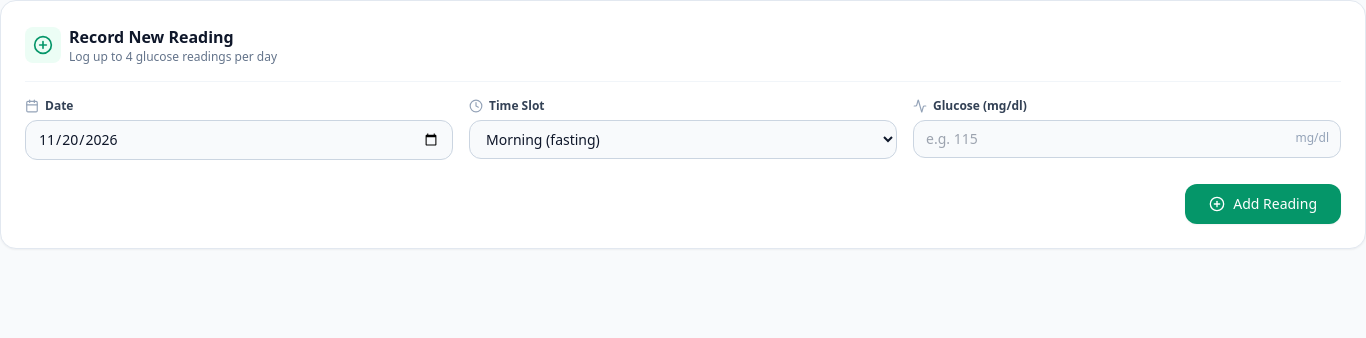
Scenario: ReadingForm Component - Validation Rules & Submission › 2. Value must be a whole number between 40 and 600: displays "Value must be between 40 and 600 mg/dl."
Test value below 40
Type "30" into the number field with test id "reading-value-input". click: point(1127, 139)
box: [913,120,1341,158]
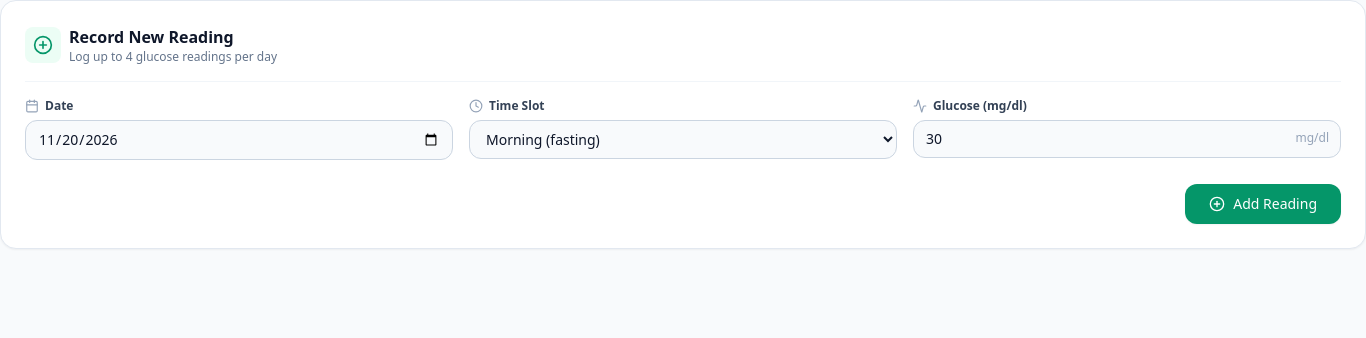
Click the button with test id "submit-reading-button". click: point(1263, 204)
box: [1185,184,1341,224]
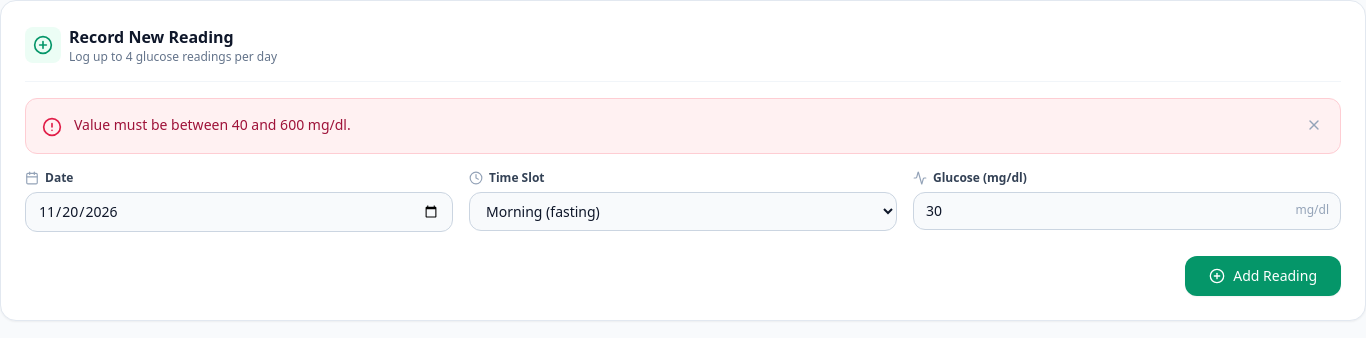
Check: the text "Value must be between 40 and 600 mg/dl." is shown, box [74,115,351,135]
Test value above 600
Replace the text in the number field with test id "reading-value-input" with "601". click: point(1127, 211)
box: [913,192,1341,230]
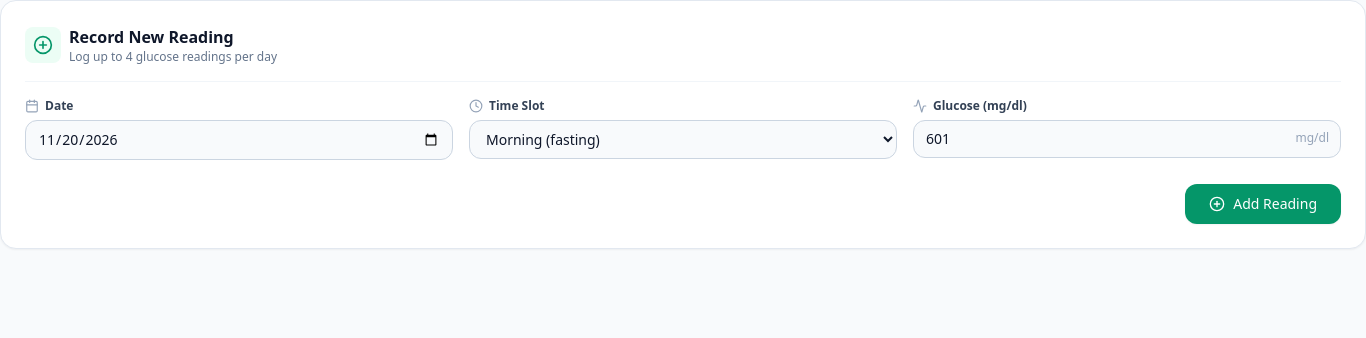
Click the button with test id "submit-reading-button". click: point(1263, 204)
box: [1185,184,1341,224]
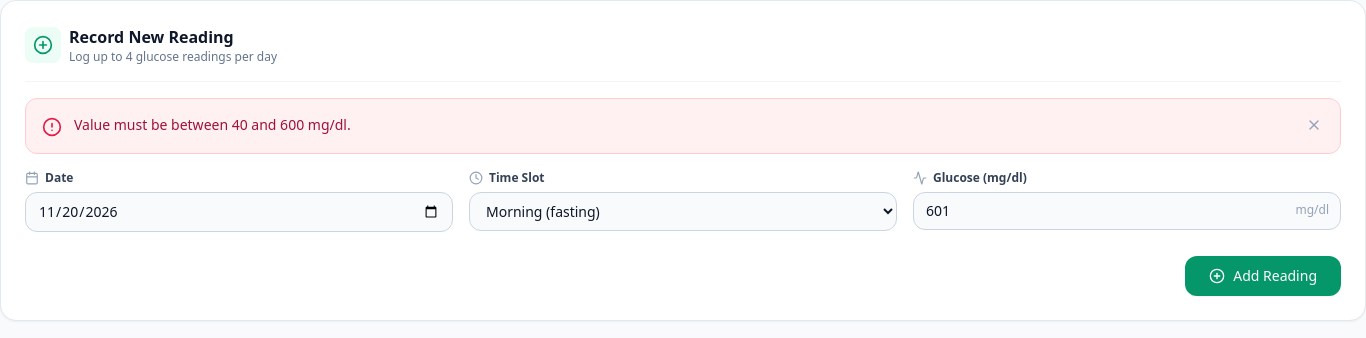
Check: the text "Value must be between 40 and 600 mg/dl." is shown, box [74,115,351,135]
Test decimal value (not a whole number)
Replace the text in the number field with test id "reading-value-input" with "115.5". click: point(1127, 211)
box: [913,192,1341,230]
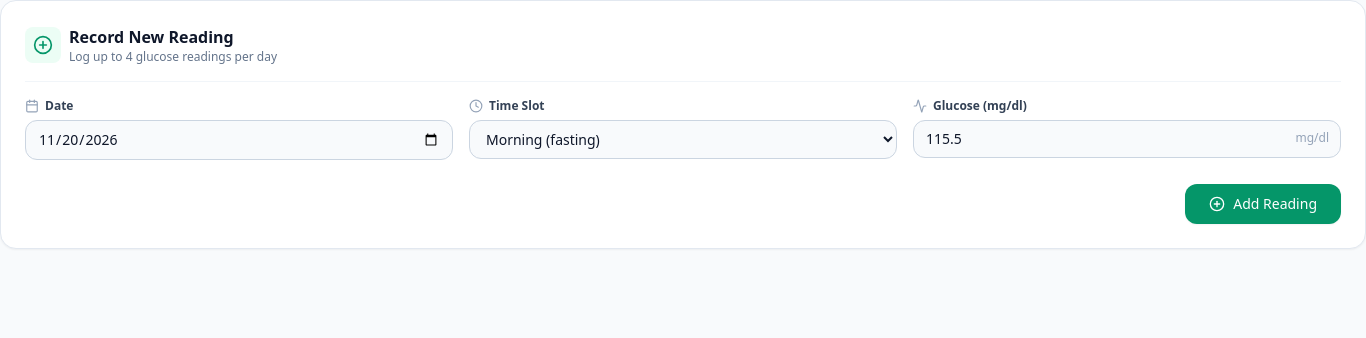
Click the button with test id "submit-reading-button". click: point(1263, 204)
box: [1185,184,1341,224]
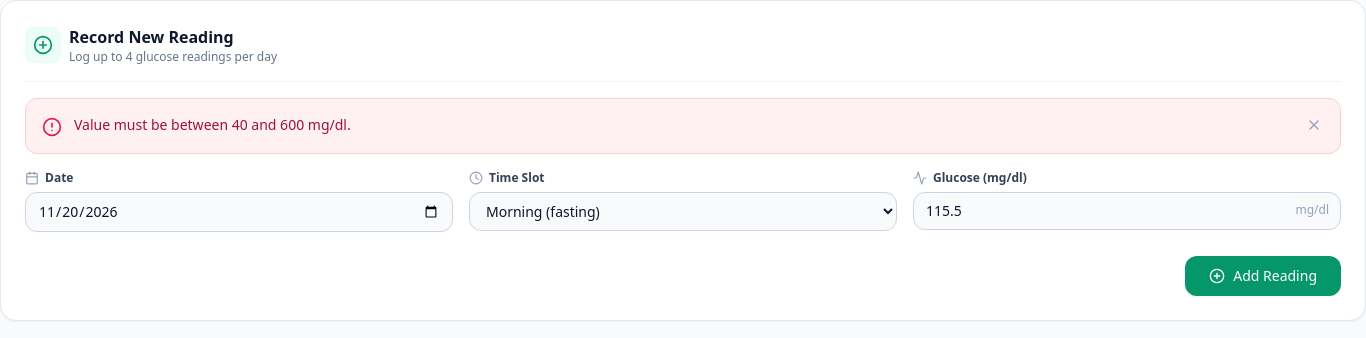
Check: the text "Value must be between 40 and 600 mg/dl." is shown, box [74,115,351,135]
